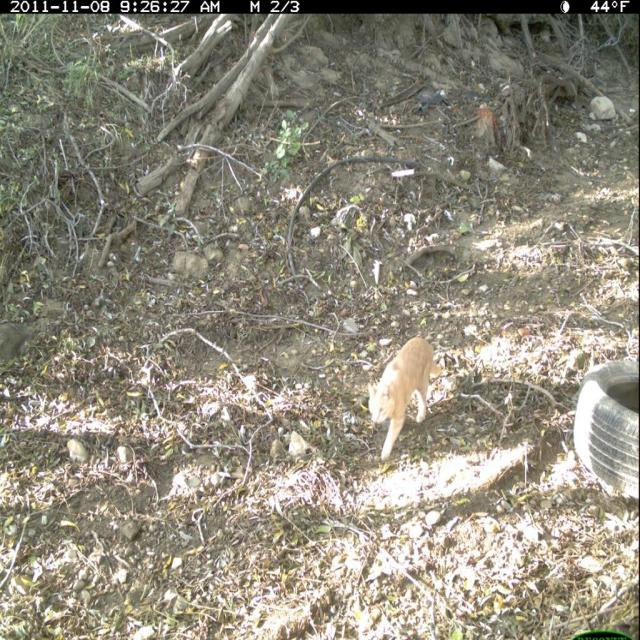cat: (366, 330, 452, 471)
